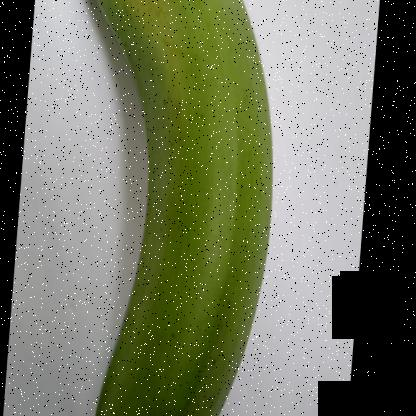freshunripe: (53, 1, 279, 415)
